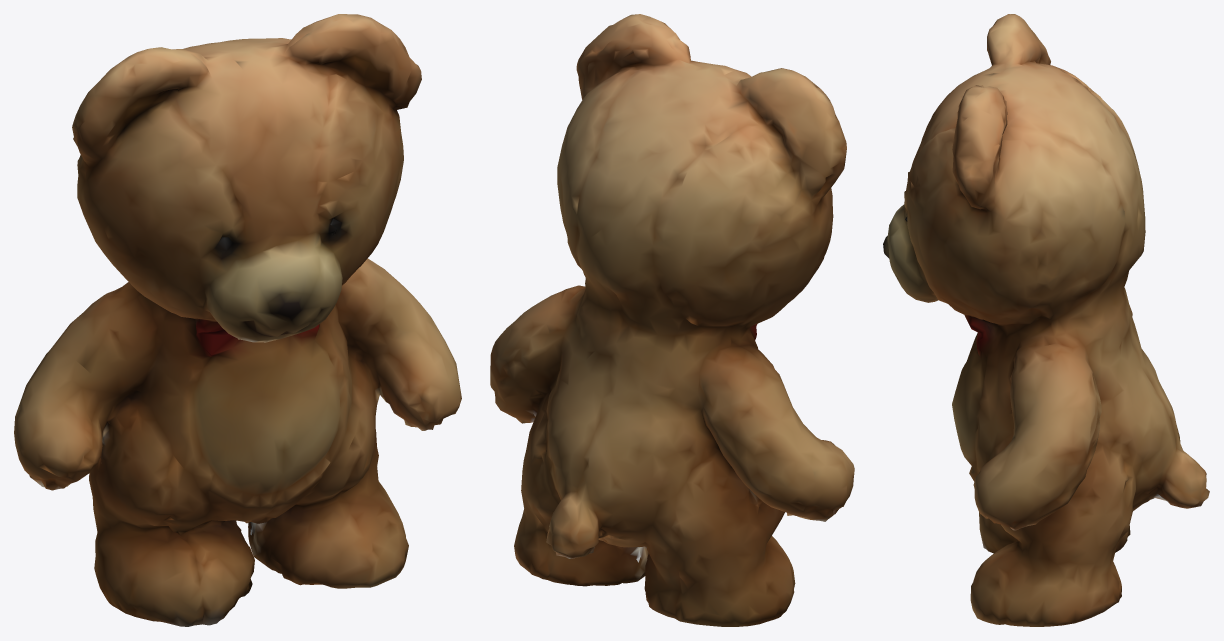
Rendered from GauBong.fbx.
The picture shows the model from 3 angles, left to right: view 1: azimuth 30°, elevation 25°; view 2: azimuth 150°, elevation 25°; view 3: azimuth 270°, elevation 25°; orthographic projection. The views are drawn at different scales.
Parts seen in each view (by area): view 1: gau bong; view 2: gau bong; view 3: gau bong.
Part boxes in pixels (x1,y1,x2,y2): gau bong: [14, 14, 461, 626]; gau bong: [490, 14, 854, 626]; gau bong: [883, 14, 1209, 626].
Size of the model in its own units: 35.44 by 48.42 by 28.1.
